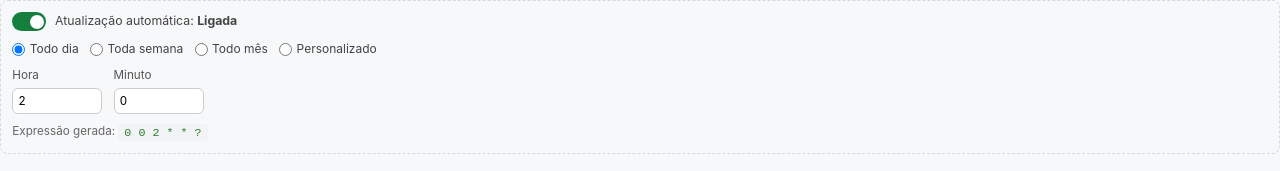
ConstrutorCron — fonte com horário › desligar limpa o horário: a fonte passa a ser só manual
Click the switch with class "interruptor-entrada" at (125, 22), box left=12, top=12, right=237, bottom=31
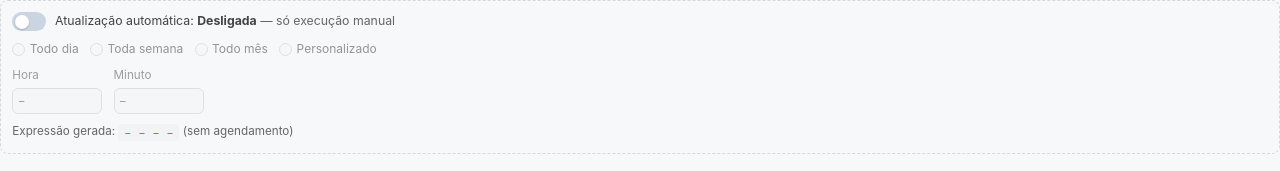
Expected: the text "sem agendamento" is shown, left=180, top=124, right=294, bottom=138
